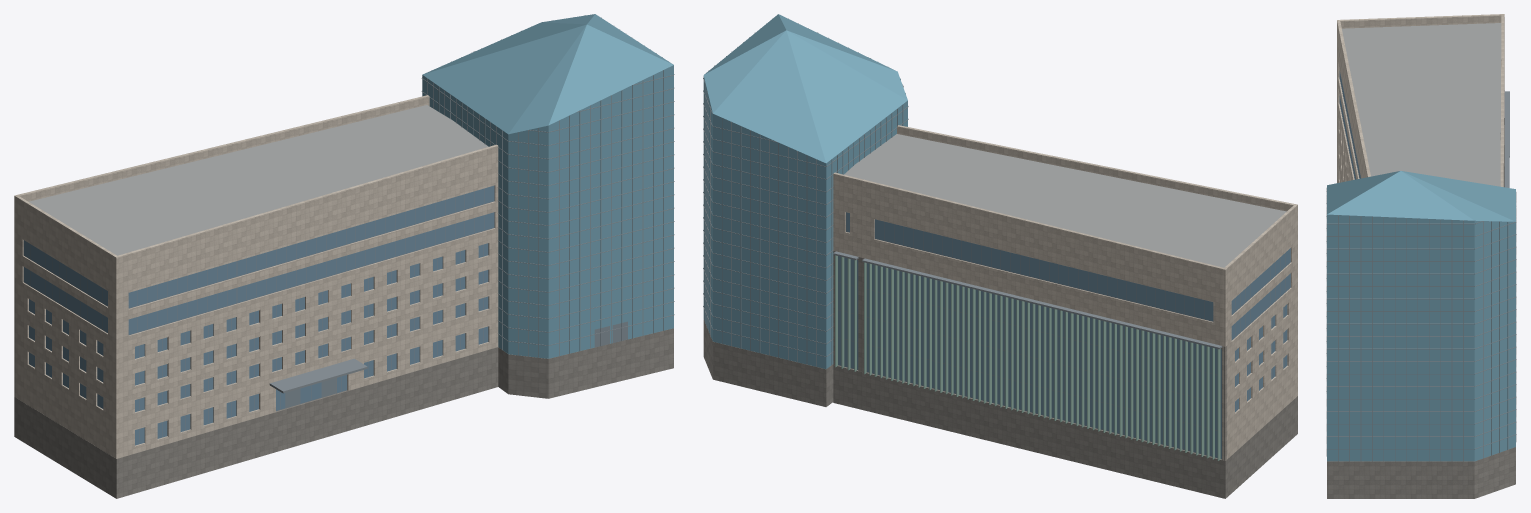
3 views of the same model, side by side, from view 1: azimuth 30°, elevation 25°; view 2: azimuth 150°, elevation 25°; view 3: azimuth 270°, elevation 25° (orthographic). The views are drawn at different scales.
Visible parts, largest first — view 1: visionTower__stone, visionTower__glass_prism, visionTower__darkstone, visionTower__roof, visionTower__glass, visionTower__frame, visionTower__glass_door; view 2: visionTower__glass_prism, visionTower__stone, visionTower__glass, visionTower__glass_louvre, visionTower__darkstone, visionTower__roof, visionTower__frame; view 3: visionTower__glass_prism, visionTower__roof, visionTower__frame, visionTower__darkstone, visionTower__stone, visionTower__glass.
Part boxes in pixels (bbox=[...]): visionTower__stone: bbox=[14, 95, 498, 458]; visionTower__glass_prism: bbox=[422, 14, 673, 358]; visionTower__darkstone: bbox=[14, 278, 673, 498]; visionTower__roof: bbox=[29, 105, 488, 255]; visionTower__glass: bbox=[24, 185, 494, 445]; visionTower__frame: bbox=[23, 15, 674, 443]; visionTower__glass_door: bbox=[285, 321, 627, 408]; visionTower__glass_prism: bbox=[703, 14, 907, 368]; visionTower__stone: bbox=[833, 125, 1297, 460]; visionTower__glass: bbox=[838, 212, 1290, 458]; visionTower__glass_louvre: bbox=[835, 255, 1220, 460]; visionTower__darkstone: bbox=[703, 251, 1297, 498]; visionTower__roof: bbox=[844, 134, 1286, 267]; visionTower__frame: bbox=[703, 18, 1290, 459]; visionTower__glass_prism: bbox=[1327, 171, 1515, 461]; visionTower__roof: bbox=[1342, 23, 1501, 186]; visionTower__frame: bbox=[1326, 91, 1516, 461]; visionTower__darkstone: bbox=[1327, 93, 1515, 498]; visionTower__stone: bbox=[1337, 14, 1504, 187]; visionTower__glass: bbox=[1339, 71, 1360, 179].
Size of the model in its own units: 88.83 by 49 by 27.59.
9 materials, 2 textured.
